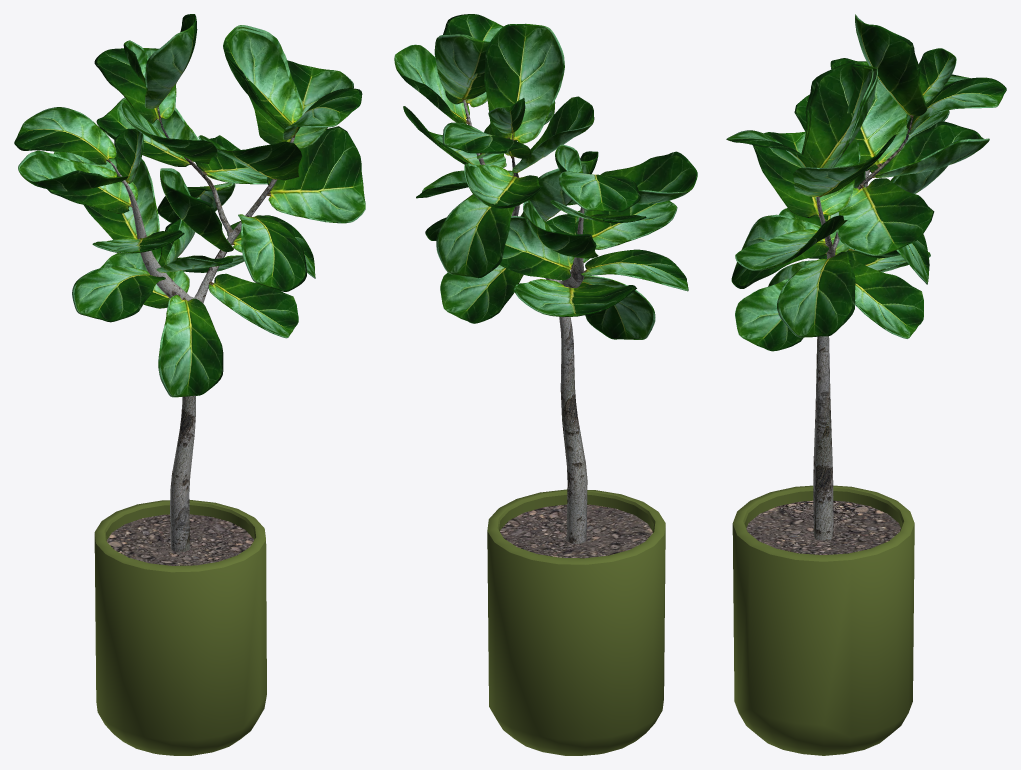
The model's file is plant_fiddle_leaf.glb.
The picture shows the model from 3 angles, left to right: view 1: azimuth 30°, elevation 25°; view 2: azimuth 150°, elevation 25°; view 3: azimuth 270°, elevation 25°; orthographic projection. The views are drawn at different scales.
Parts seen in each view (by area): view 1: leaf21_blinn1_0, pCylinder1_Pot_0, tree1_lambert4_0, pCylinder1_dirt_0; view 2: leaf21_blinn1_0, pCylinder1_Pot_0, pCylinder1_dirt_0, tree1_lambert4_0; view 3: leaf21_blinn1_0, pCylinder1_Pot_0, pCylinder1_dirt_0, tree1_lambert4_0.
Part boxes in pixels (box(x1,y1,x2,y2)): leaf21_blinn1_0: box(14, 14, 365, 397); pCylinder1_Pot_0: box(94, 500, 266, 755); tree1_lambert4_0: box(110, 107, 295, 552); pCylinder1_dirt_0: box(107, 514, 253, 565); leaf21_blinn1_0: box(394, 14, 697, 339); pCylinder1_Pot_0: box(487, 489, 665, 755); pCylinder1_dirt_0: box(500, 504, 652, 558); tree1_lambert4_0: box(463, 100, 587, 543); leaf21_blinn1_0: box(726, 14, 1006, 351); pCylinder1_Pot_0: box(732, 485, 914, 755); pCylinder1_dirt_0: box(746, 500, 900, 554); tree1_lambert4_0: box(813, 116, 913, 540).
Bounding box in the file's own units: 0.7342 × 1.6 × 0.5563.
Materials: 4 (3 with a texture image).
